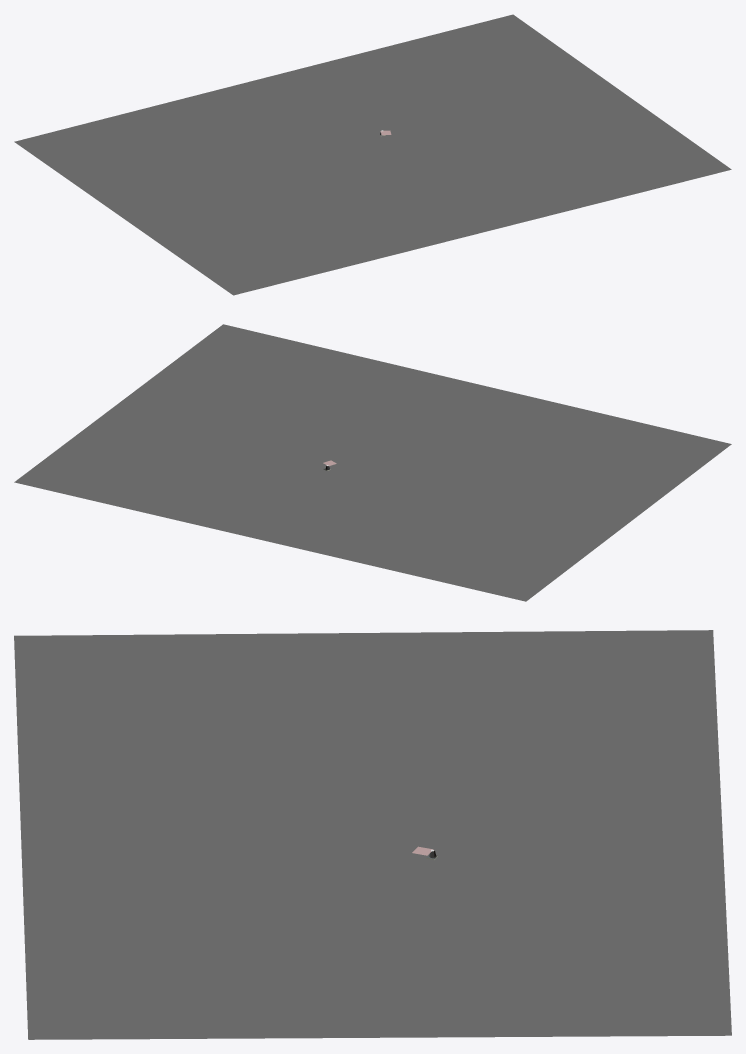
The model's file is cosmic-compass-by-rick-booth.glb.
3 renders of one model, top to bottom at view 1: azimuth 30°, elevation 25°; view 2: azimuth 150°, elevation 25°; view 3: azimuth 270°, elevation 25°, orthographic. The views are drawn at different scales.
Visible parts, largest first — view 1: LOD0; view 2: LOD0; view 3: LOD0.
Boxes of the visible parts, x1,y1,x2,y2 form: LOD0: (14, 14, 731, 295); LOD0: (14, 324, 731, 601); LOD0: (14, 630, 731, 1039).
Size of what is drawn, in the model's own units: 103 by 0.8282 by 76.13.
2 materials, 2 textured.
